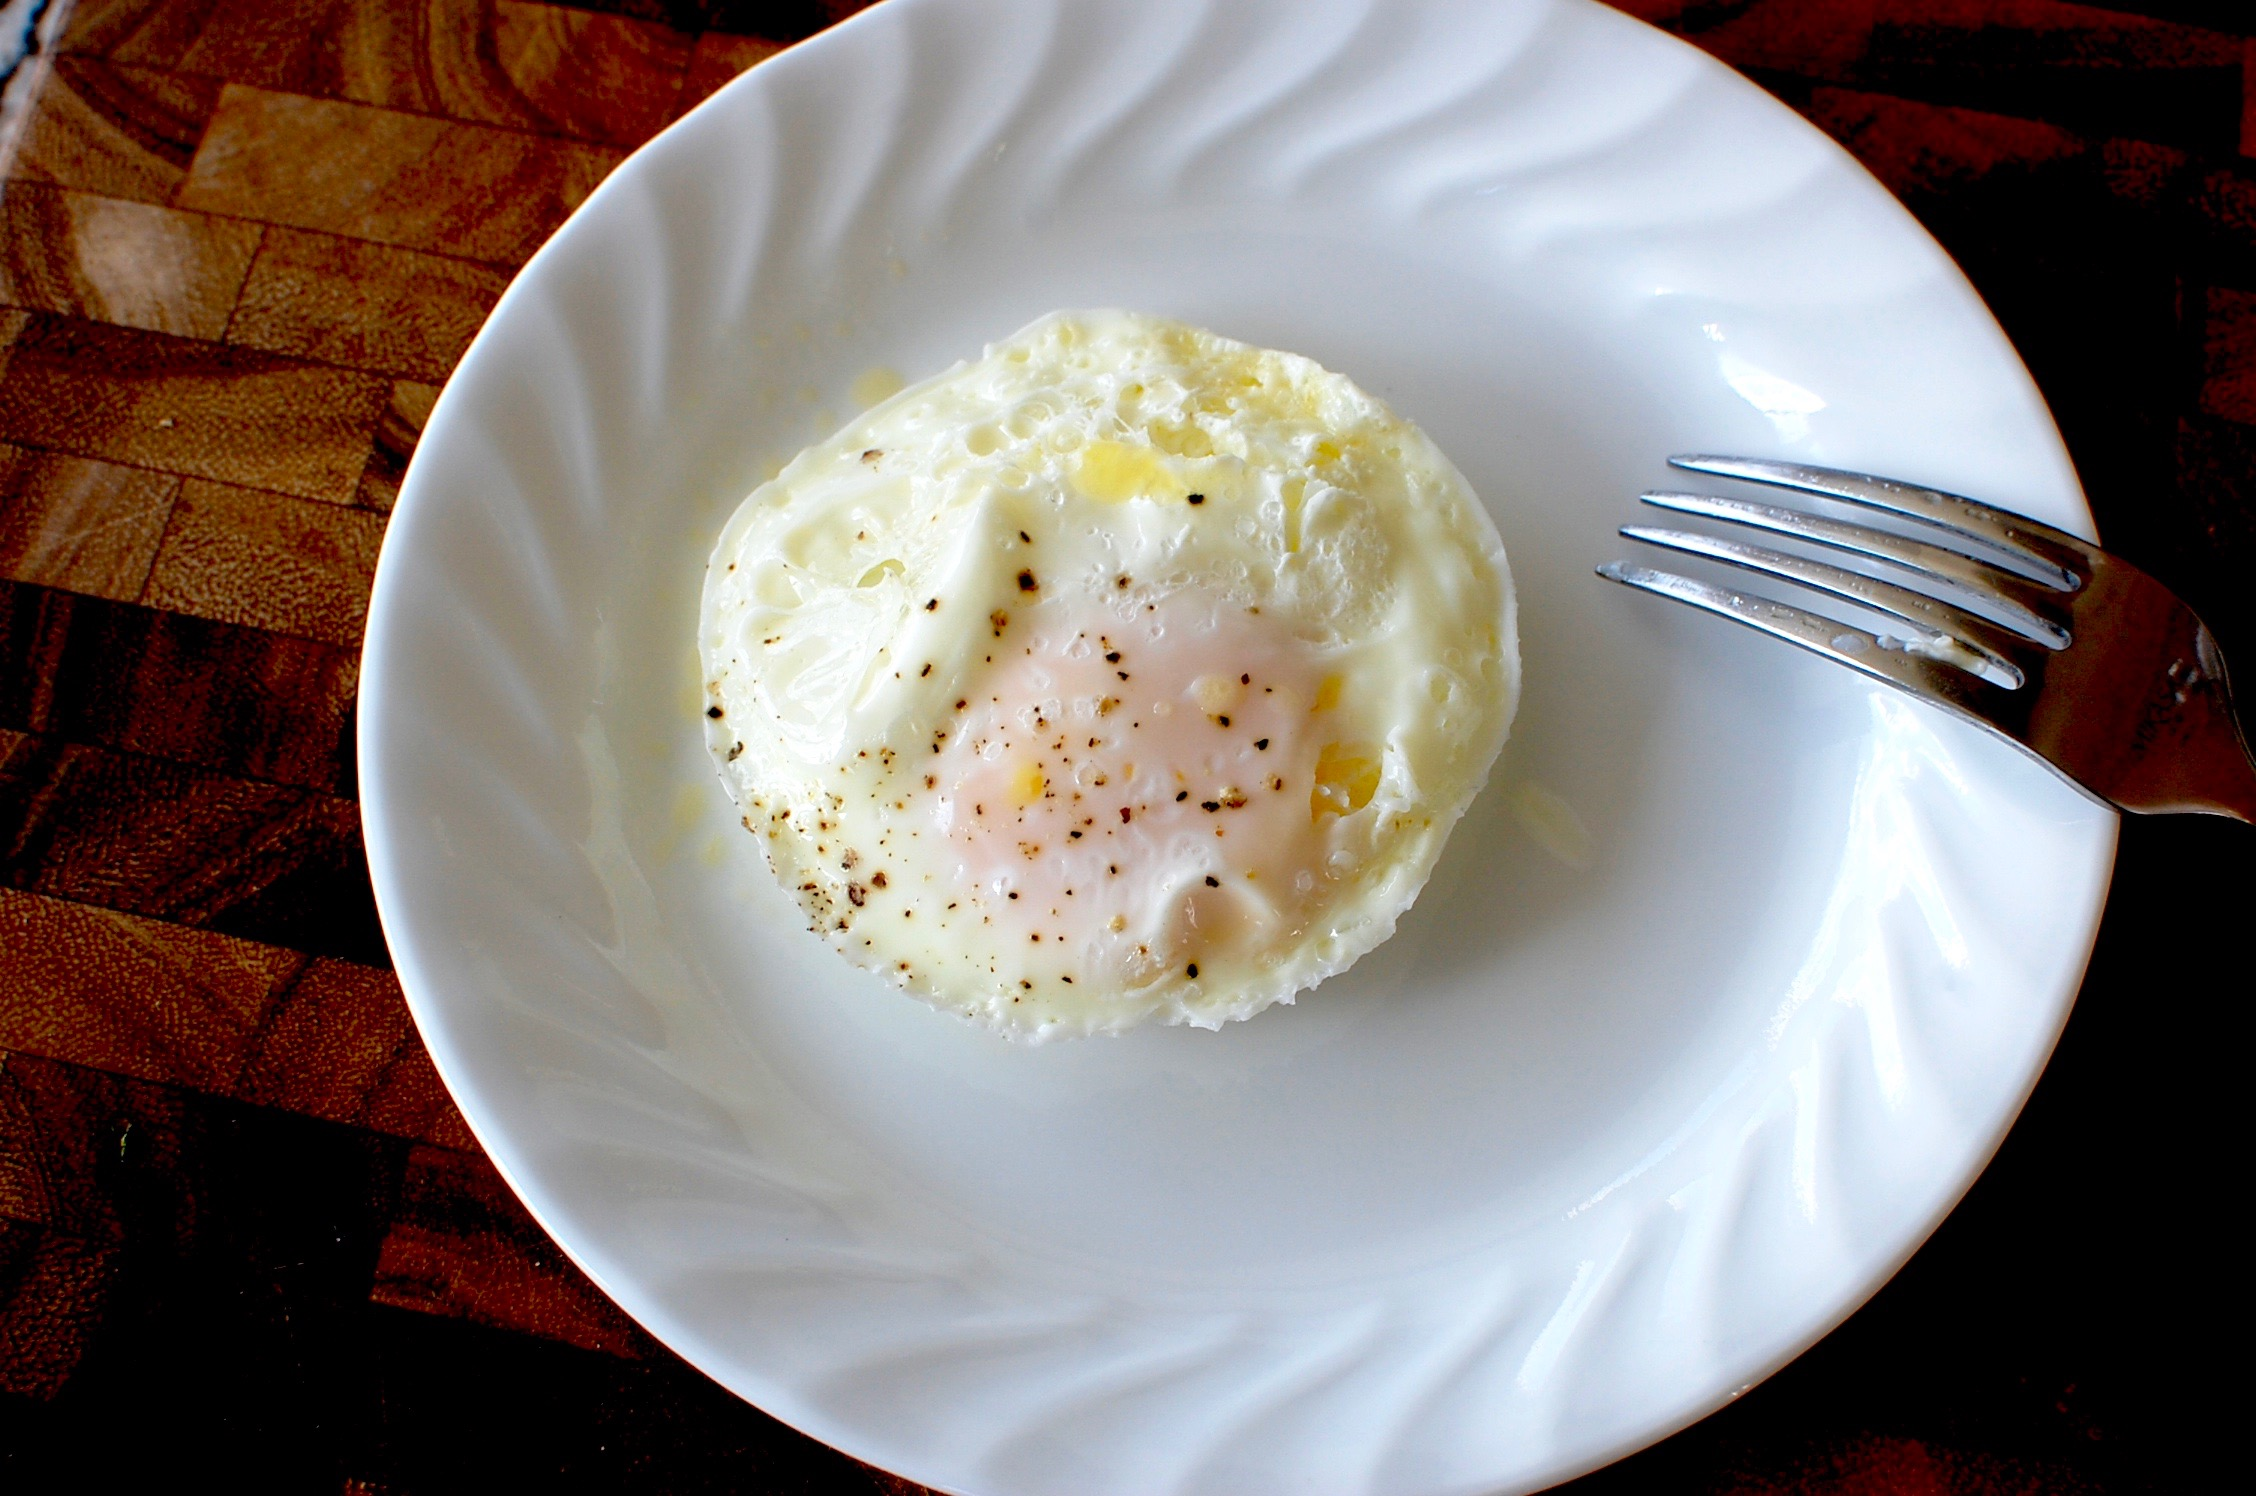fried egg: (726, 407, 1480, 1007)
